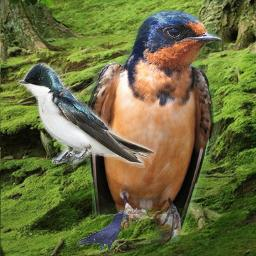Crow: (76, 212, 129, 255)
Swallow: (85, 9, 222, 245), (17, 61, 156, 168)
